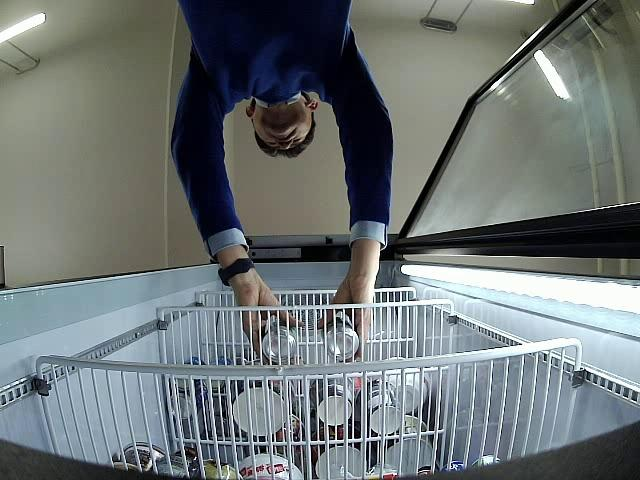00_hand: (319, 250, 381, 362), (237, 271, 304, 365)
12_chilsungCider: (321, 318, 359, 361), (262, 324, 299, 365)
